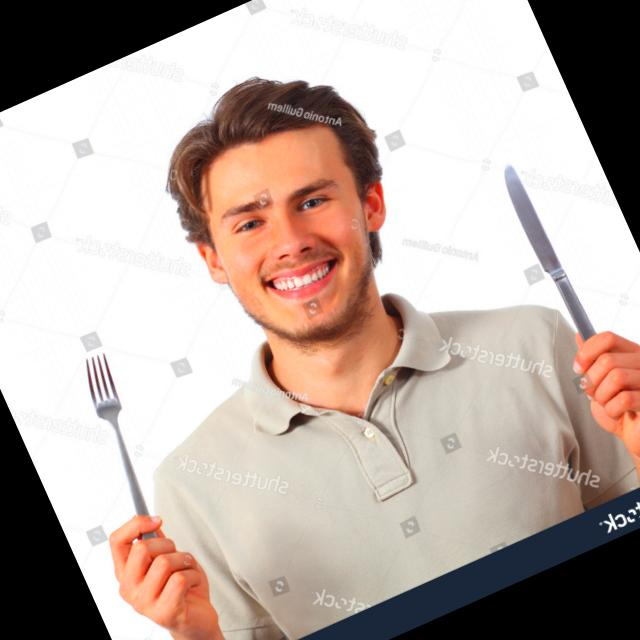fork: (59, 348, 197, 576)
